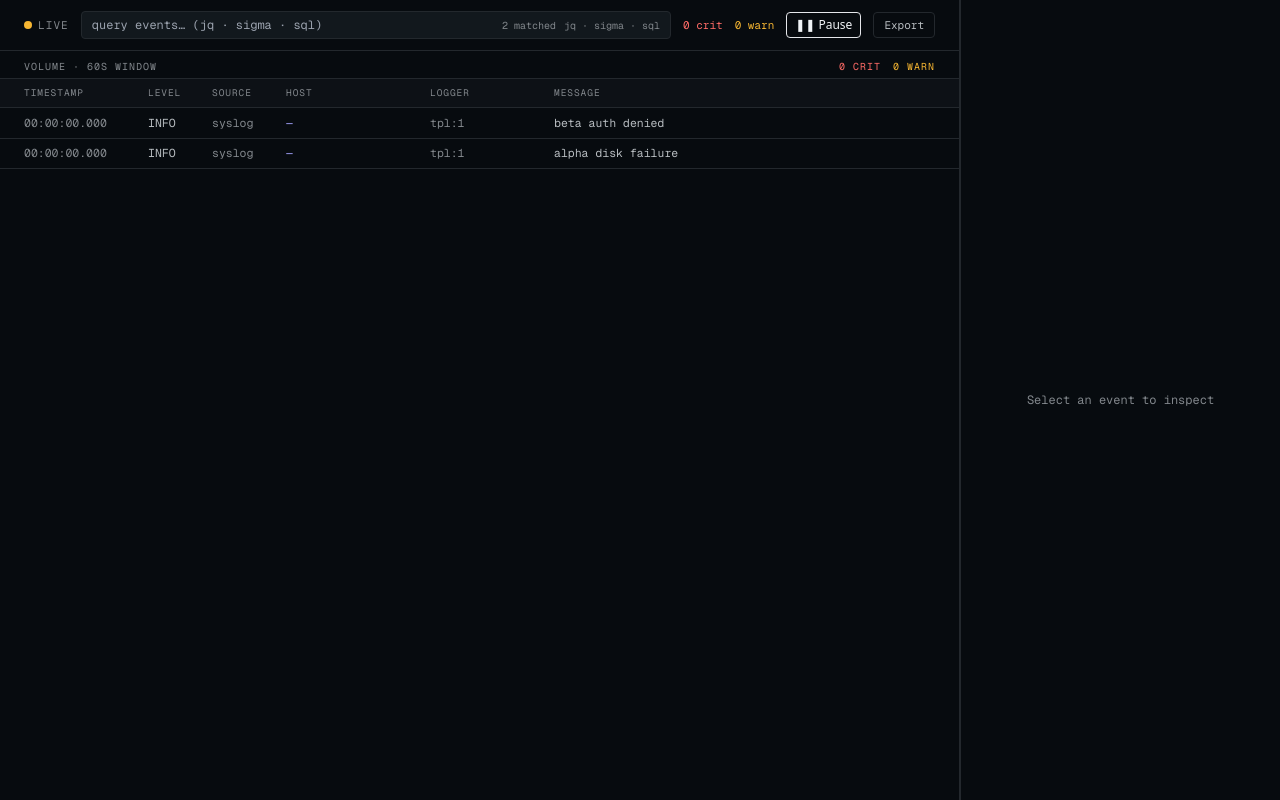
Scenario: EventsScreen › typing in the single toolbar field filters the live stream
Check: the text "alpha disk failure" is shown, box [554,145,678,160]
Type "disk" into the field with test id "event-query-field". click: (293, 25)
box: [92,16,494,34]
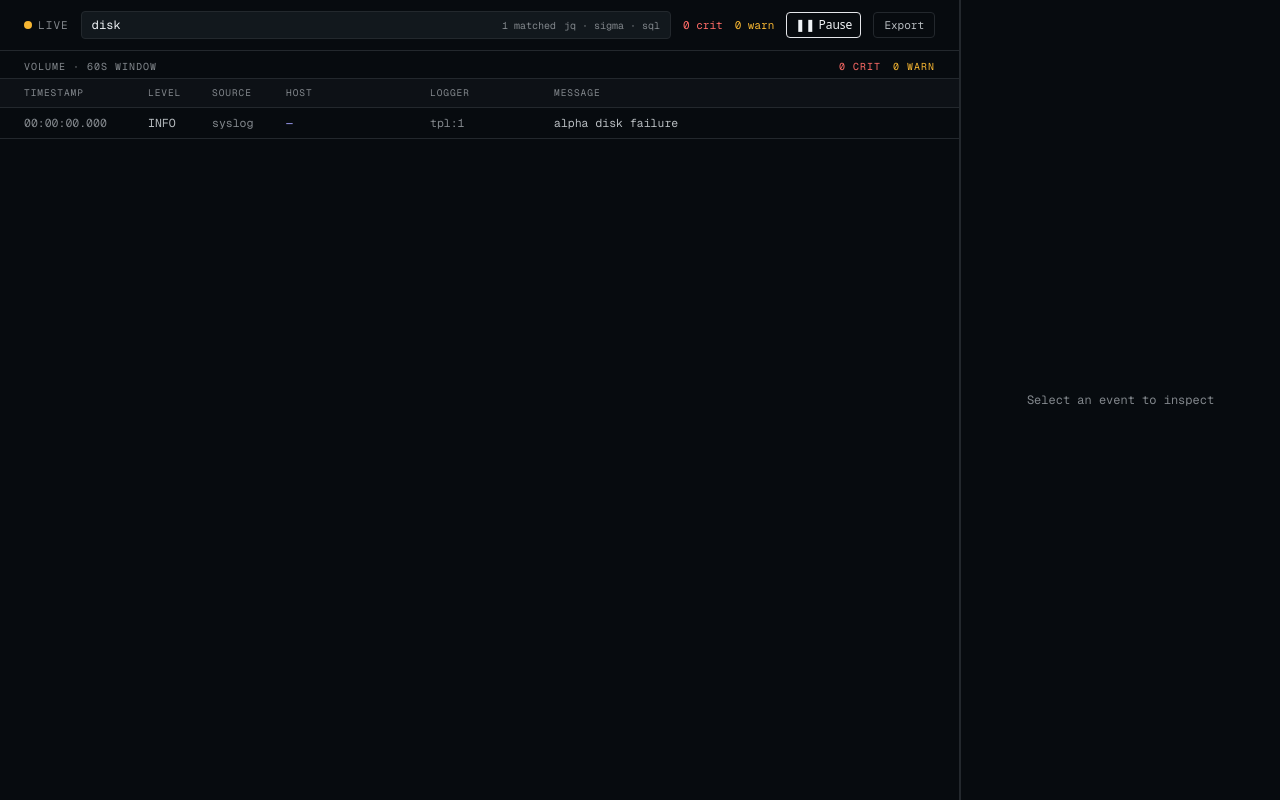
Check: the text "alpha disk failure" is shown, box [554,115,678,130]
Check: the element with test id "matched-results" is shown, box [0,108,959,139]
Check: the button "beta auth denied" is gone
